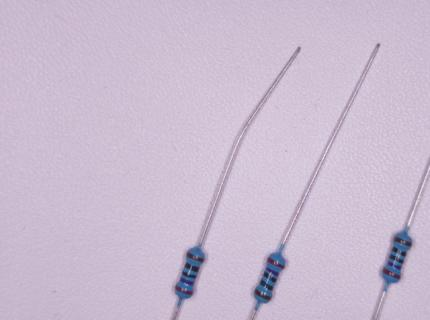Black band: (260, 279, 274, 291), (263, 271, 277, 283), (185, 262, 200, 273), (392, 246, 406, 257), (389, 254, 404, 264), (182, 270, 197, 279)
Brown band: (393, 235, 412, 247), (255, 289, 271, 301), (187, 252, 205, 262)
Red band: (267, 257, 285, 270), (382, 268, 401, 280), (175, 285, 194, 295)
Violet band: (266, 268, 280, 277), (388, 261, 402, 270), (180, 277, 195, 285)
